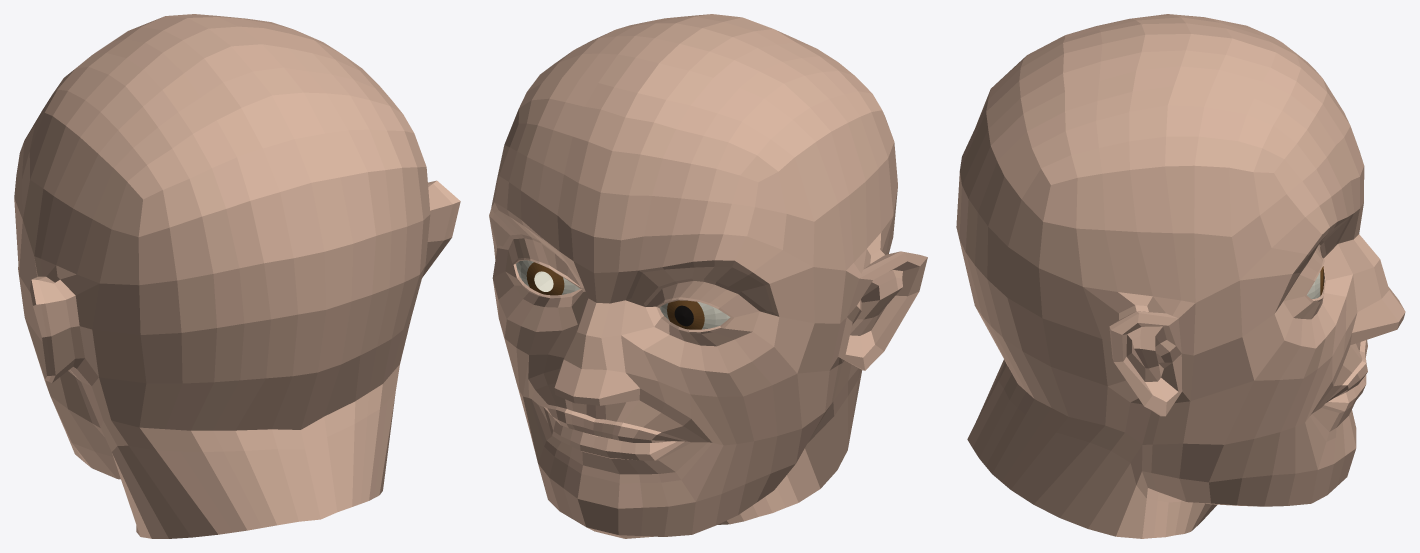
Rendered from BaseFace_morph_test_09.glb.
3 views of the same model, side by side, from view 1: azimuth 30°, elevation 25°; view 2: azimuth 150°, elevation 25°; view 3: azimuth 270°, elevation 25° (orthographic).
Visible parts, largest first — view 1: BaseFace_lowPoly; view 2: BaseFace_lowPoly, BaseEye_left, BaseEye_right; view 3: BaseFace_lowPoly.
Boxes of the visible parts, x1=… form: BaseFace_lowPoly: x1=14, y1=14, x2=460, y2=538; BaseFace_lowPoly: x1=489, y1=14, x2=927, y2=538; BaseEye_left: x1=659, y1=300, x2=730, y2=329; BaseEye_right: x1=516, y1=260, x2=579, y2=295; BaseFace_lowPoly: x1=956, y1=14, x2=1405, y2=538.
Bounding box in the file's own units: 2.31 × 2.5 × 2.13.
